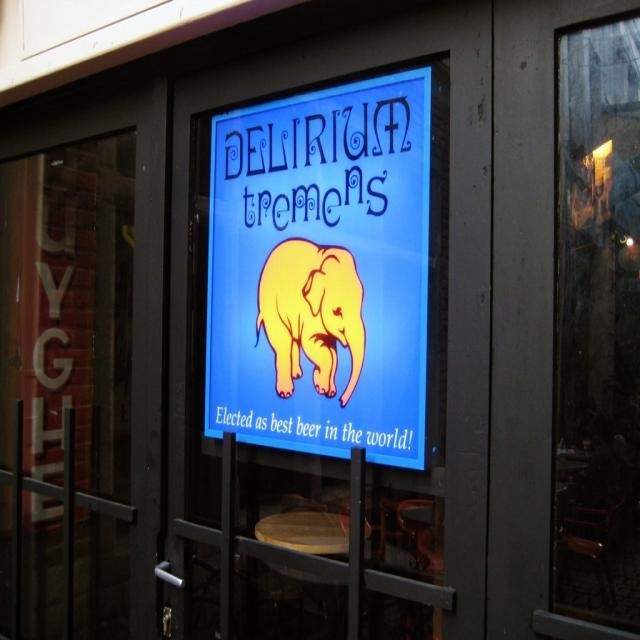elephant: (254, 231, 368, 402)
